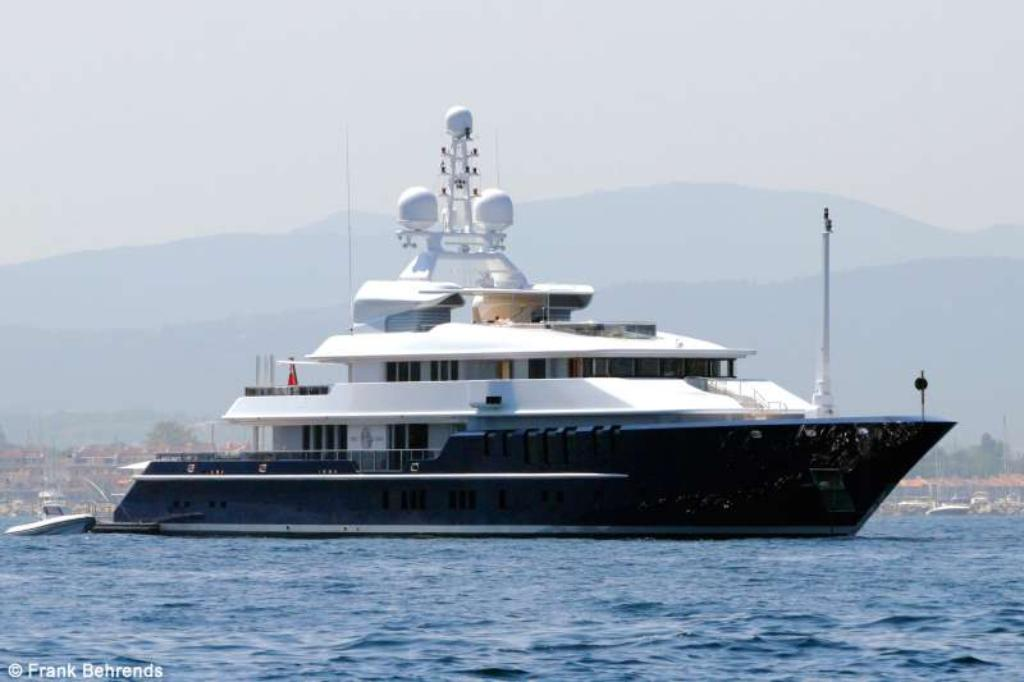PassengerShip: (76, 106, 954, 538)
